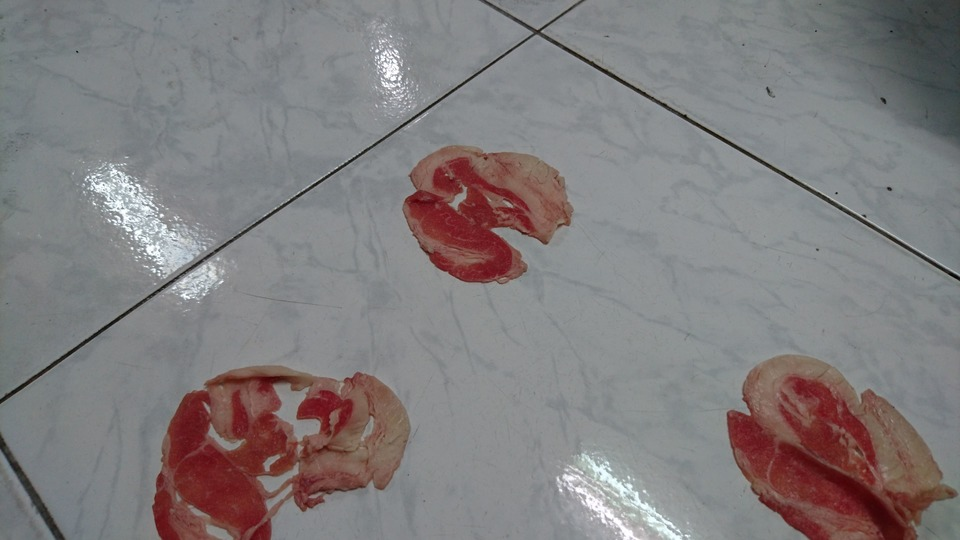restructured meat: (727, 347, 960, 540), (155, 368, 416, 540), (396, 142, 569, 288)
